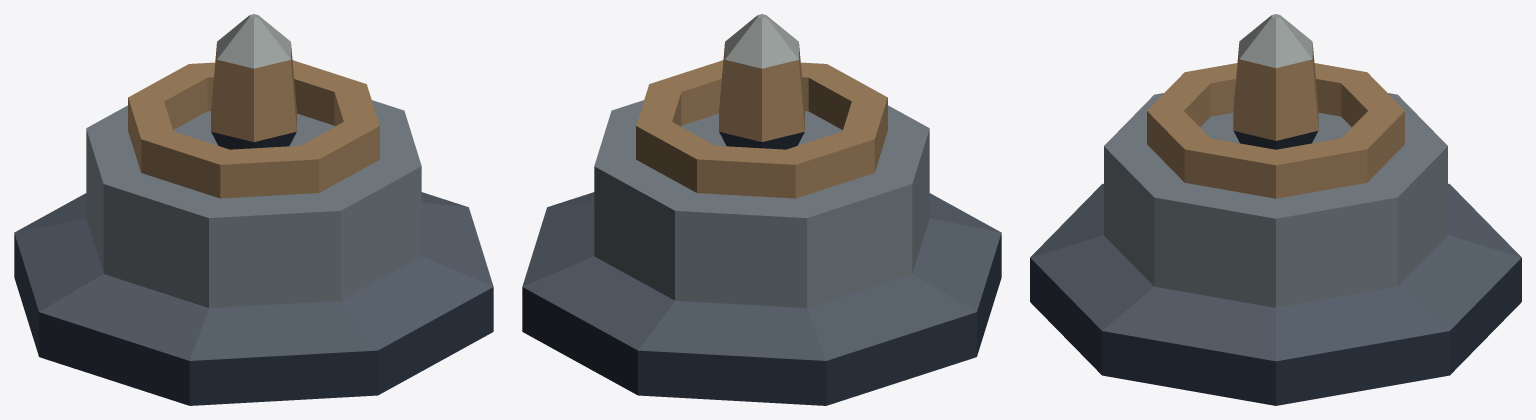
Rendered from seal-plinth.glb.
3 renders of one model, left to right at view 1: azimuth 30°, elevation 25°; view 2: azimuth 150°, elevation 25°; view 3: azimuth 270°, elevation 25°, orthographic.
Visible parts, largest first — view 1: seal-plinth__body; view 2: seal-plinth__body; view 3: seal-plinth__body.
Part boxes in pixels (bbox=[...]): seal-plinth__body: bbox=[14, 14, 493, 405]; seal-plinth__body: bbox=[522, 14, 1001, 405]; seal-plinth__body: bbox=[1030, 14, 1521, 405].
Bounding box in the file's own units: 1.2 × 0.77 × 1.2.
